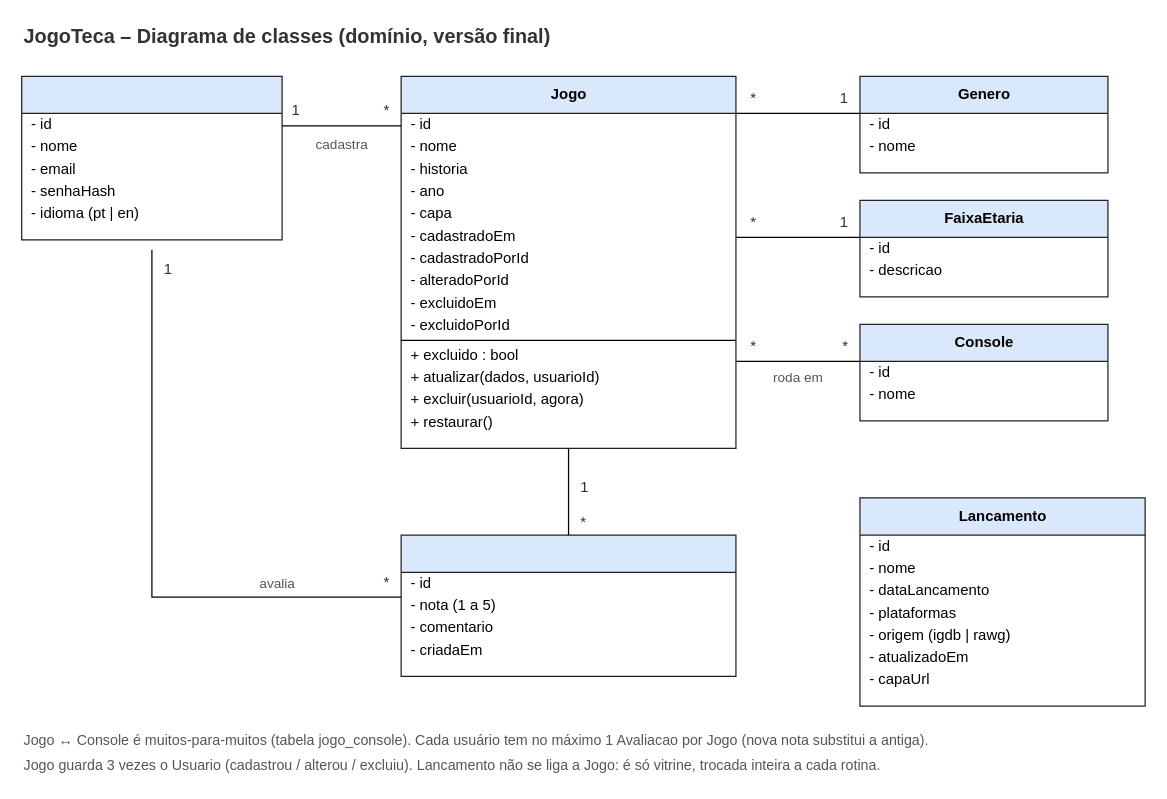
Some shapes in this 1167 by 799 pixel diagram are drawn without their labels. The box of each missing label's shape, as (x1, y1, x2, y2) in pixels:
Avaliacao: (400, 534, 736, 676)
Usuario: (20, 75, 282, 240)
